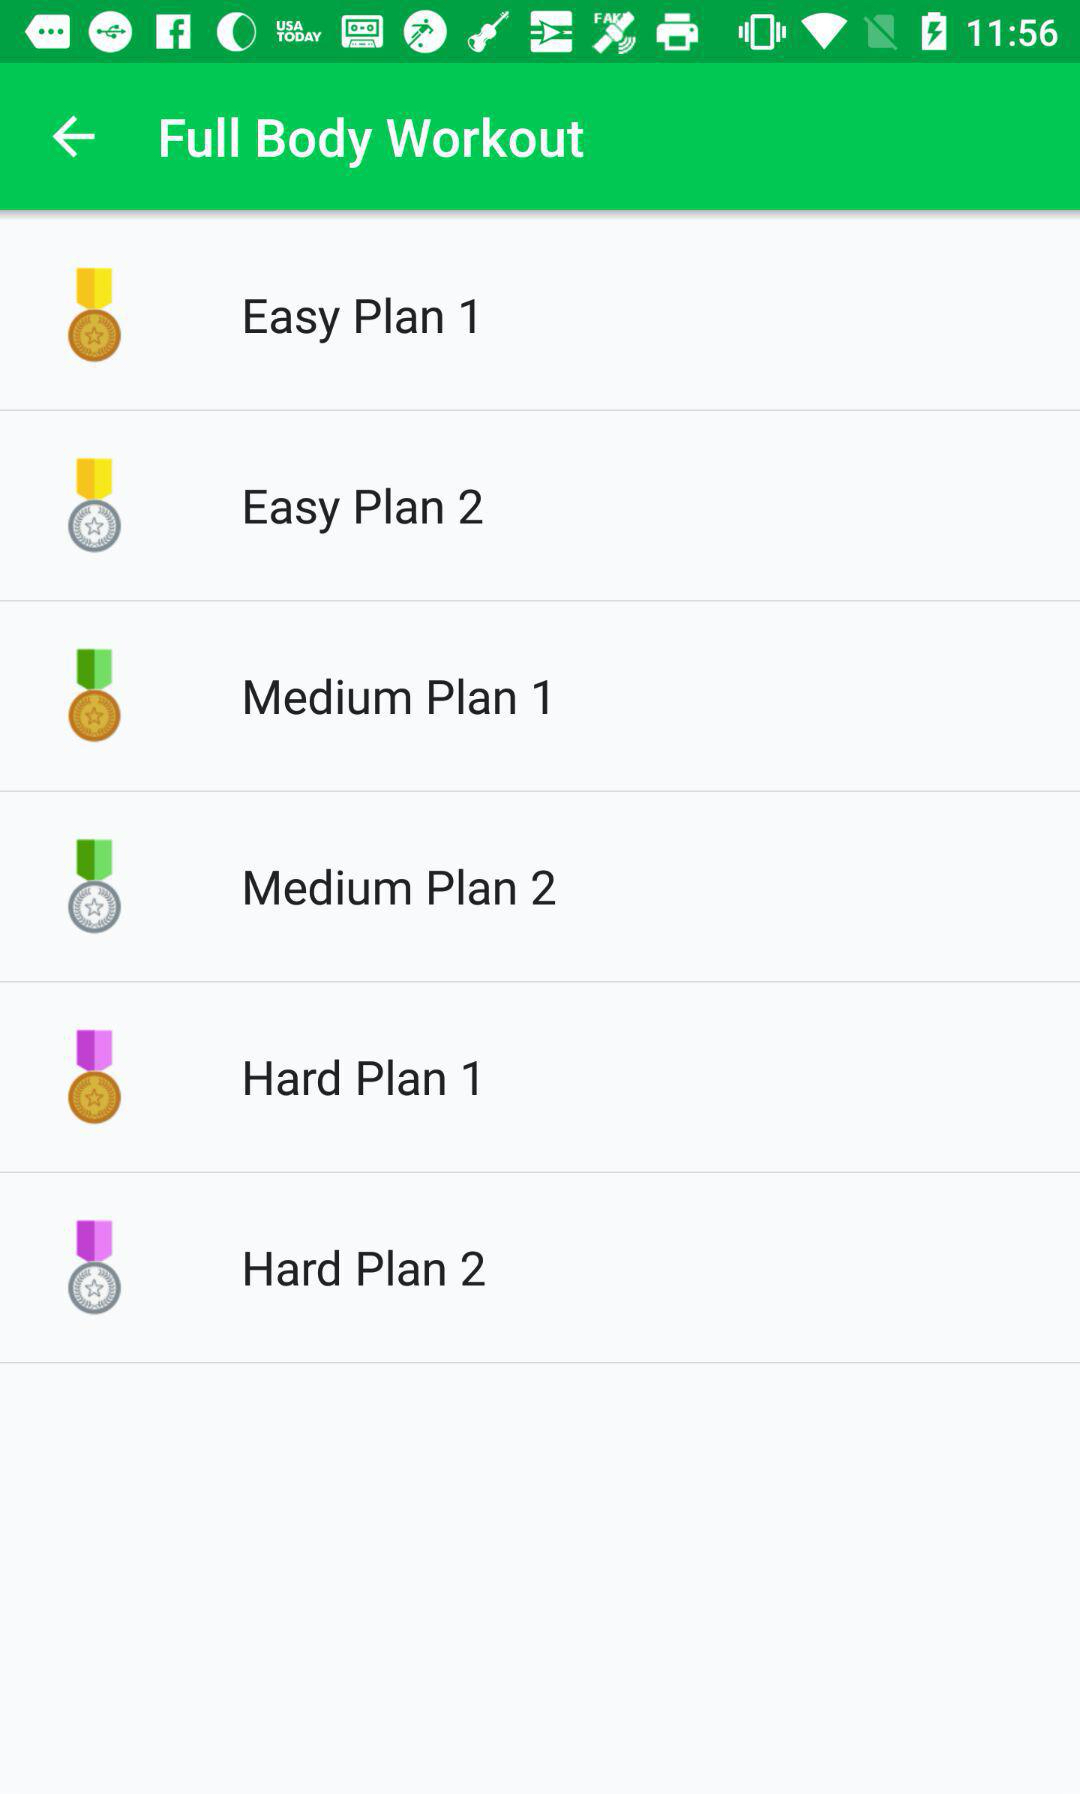Icon: (53, 115, 97, 160)
Image: (68, 838, 124, 935), (67, 268, 123, 364), (68, 1219, 123, 1316), (68, 1029, 123, 1125), (68, 648, 123, 745), (68, 457, 123, 554)
Text: (161, 117, 585, 170), (245, 678, 550, 718), (245, 869, 556, 907), (243, 487, 484, 536), (243, 297, 477, 345), (245, 1249, 487, 1288), (245, 1058, 479, 1097)
Toolbar: (1, 65, 1080, 213)
UpperTaskBar: (1, 1, 1080, 64)
